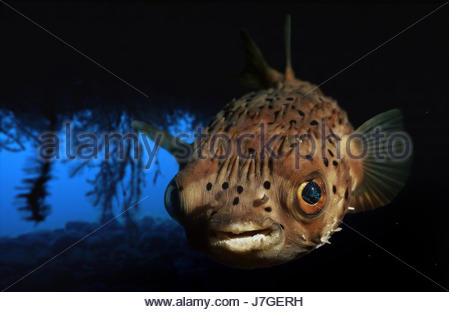Diodon_holocanthus: (145, 50, 417, 271)
